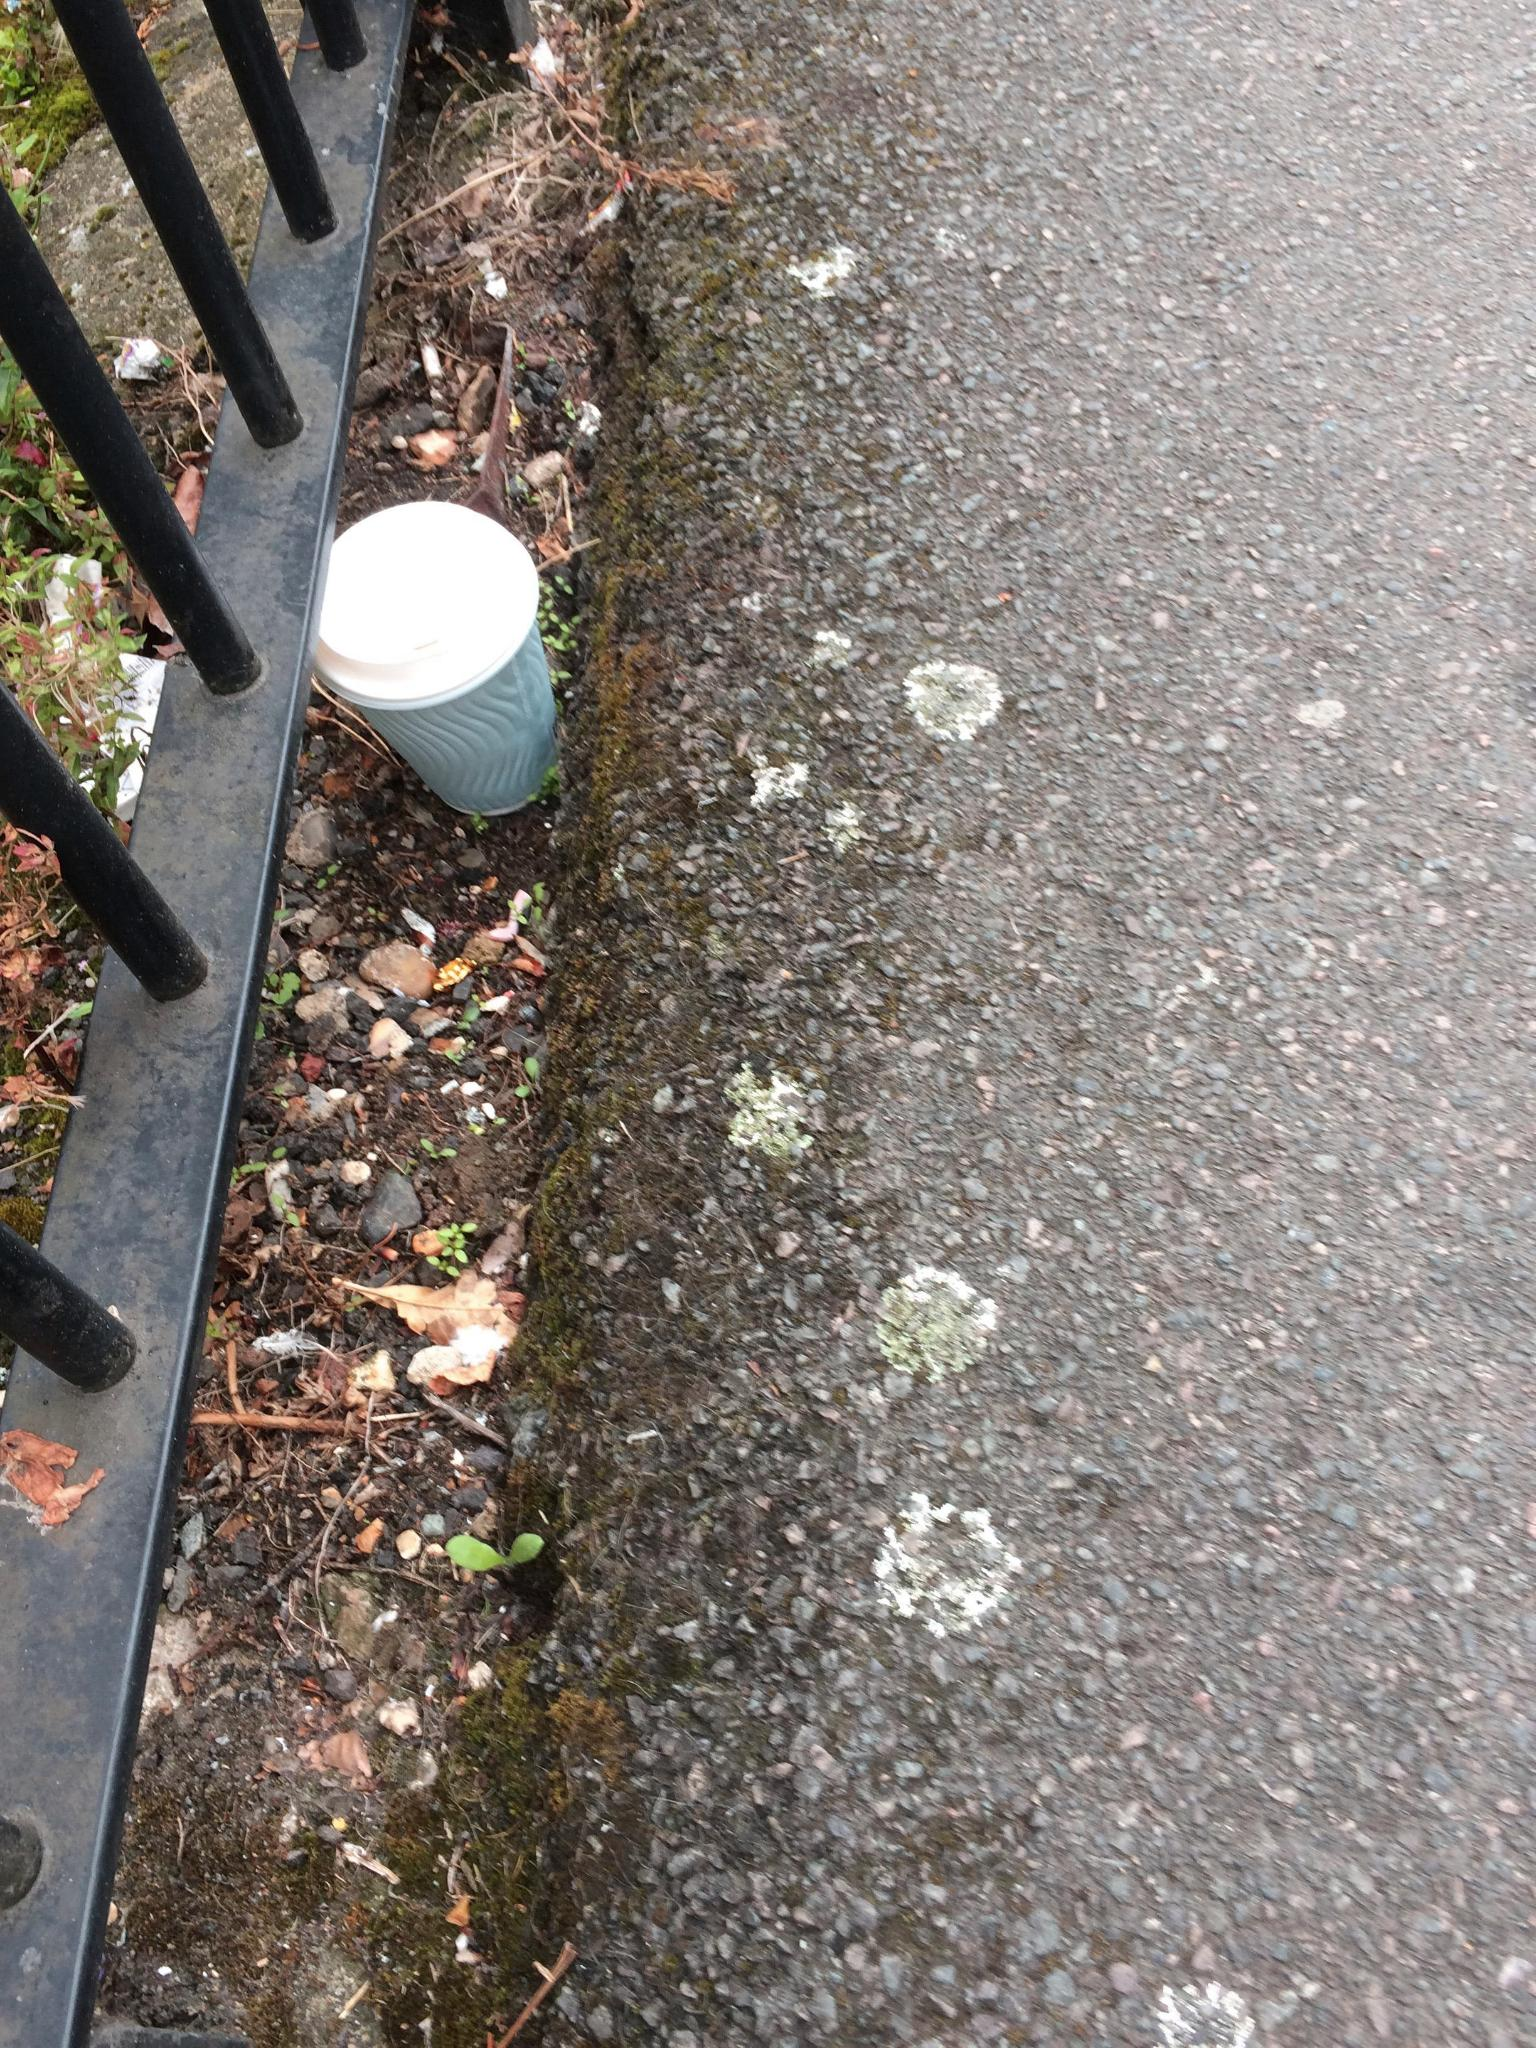Plastic: (287, 484, 584, 850)
